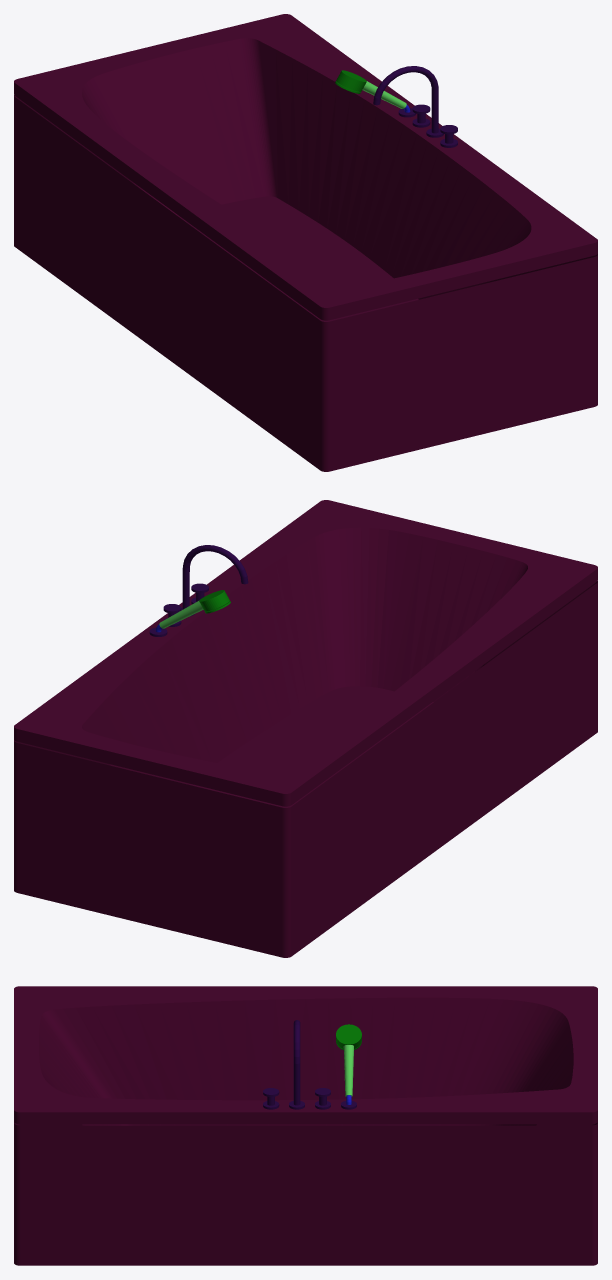
File: Tub.FBX
The picture shows the model from 3 angles, top to bottom: view 1: azimuth 30°, elevation 25°; view 2: azimuth 150°, elevation 25°; view 3: azimuth 270°, elevation 25°; orthographic projection. The views are drawn at different scales.
Parts seen in each view (by area): view 1: Shape01, Circle23; view 2: Shape01, Circle23; view 3: Shape01, Circle23, Circle16, Circle14.
Part boxes in pixels (box(x1,y1,x2,y2)): Shape01: box(14, 14, 597, 471); Circle23: box(373, 66, 438, 133); Shape01: box(14, 500, 597, 957); Circle23: box(182, 545, 248, 609); Shape01: box(14, 986, 597, 1265); Circle23: box(293, 1020, 300, 1105); Circle16: box(336, 1024, 361, 1049); Circle14: box(343, 1045, 353, 1096).
Size of the model in its own units: 27.37 by 22.49 by 53.49.
